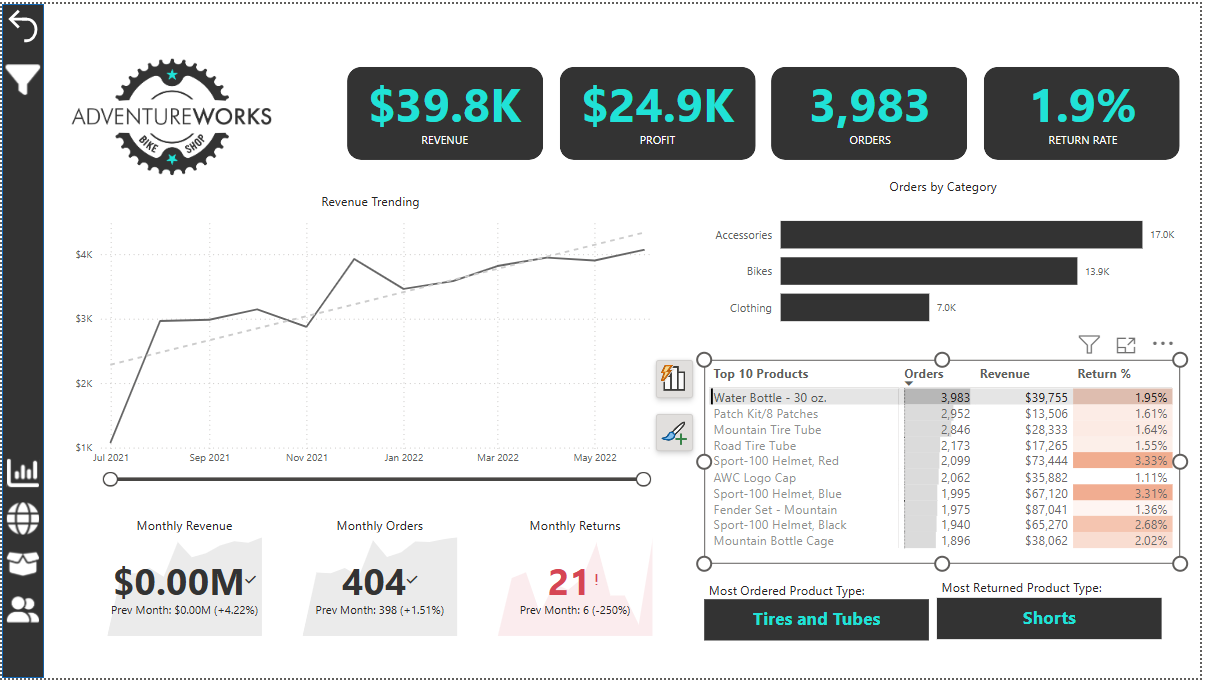

What the dashboard file says about the page in this screenshot:
{"tool":"powerbi","page":{"name":"Exec Dashboard","canvas":[1280,720],"ordinal":0},"visuals":[{"type":"shape","title":"Left Nav Background","box":[0,0,45,719.9],"z":0},{"type":"card","fields":{"Values":["Measure Table.Total Revenue"]},"box":[350,58.6,245.3,107.4],"z":0,"group":"g2"},{"type":"group","id":"g1","title":"KPI Backgrounds","box":[368.9,67.6,889.2,99.4],"z":0,"group":"g3"},{"type":"shape","box":[1048.6,67.6,209.5,99.4],"z":0,"group":"g1"},{"type":"actionButton","box":[1.3,527.9,62.3,42.4],"z":0,"group":"g4"},{"type":"image","title":"AW Logo","box":[45.1,35.8,271.8,169.7],"z":1000},{"type":"group","id":"g2","title":"KPI Values","box":[350,58.6,927.2,107.4],"z":1000,"group":"g3"},{"type":"card","fields":{"Values":["Measure Table.Return Rate"]},"box":[1031.4,58.6,245.7,107.1],"z":1000,"group":"g2"},{"type":"shape","box":[822.1,67.6,209.5,99.4],"z":1000,"group":"g1"},{"type":"actionButton","box":[1.3,576.5,62.3,42.4],"z":1000,"group":"g4"},{"type":"group","id":"g3","title":"KPIs","box":[350,58.6,927.2,108.4],"z":2000},{"type":"card","fields":{"Values":["Measure Table.Total Profit"]},"box":[576.8,58.6,245.7,107.1],"z":2000,"group":"g2"},{"type":"shape","box":[595.5,67.6,209.5,99.4],"z":2000,"group":"g1"},{"type":"actionButton","box":[1.3,625.1,62.3,42.4],"z":2000,"group":"g4"},{"type":"card","fields":{"Values":["Measure Table.Total Orders"]},"box":[804.1,58.6,245.7,107.1],"z":3000,"group":"g2"},{"type":"shape","box":[368.9,67.6,209.5,99.4],"z":3000,"group":"g1"},{"type":"lineChart","title":"Revenue Trending","fields":{"Y":["Measure Table.Total Revenue"],"Category":["Calendar Lookup.Year","Calendar Lookup.Start of Quarter.Variation.Date Hierarchy.Quarter","Calendar Lookup.Start of Quarter.Variation.Date Hierarchy.Month","Calendar Lookup.Date Hierarchy.Start of Month"]},"box":[72.9,201.4,641.4,317.1],"z":3000},{"type":"actionButton","box":[1.3,479.3,62.3,42.4],"z":3000,"group":"g4"},{"type":"kpi","title":"Monthly Revenue","fields":{"Indicator":["Measure Table.Total Revenue"],"TrendLine":["Calendar Lookup.Start of Month"],"Goal":["Measure Table.Previous Month Revenue"]},"box":[107.1,547.1,175.7,132.9],"z":4000},{"type":"kpi","title":"Monthly Orders","fields":{"TrendLine":["Calendar Lookup.Start of Month"],"Indicator":["Measure Table.Total Orders"],"Goal":["Measure Table.Previous Month Orders"]},"box":[315.7,547.1,175.7,132.9],"z":5000},{"type":"kpi","title":"Monthly Returns","fields":{"TrendLine":["Calendar Lookup.Start of Month"],"Indicator":["Measure Table.Total Returns"],"Goal":["Measure Table.Previous Month Returns"]},"box":[524.3,547.1,175.7,132.9],"z":6000},{"type":"clusteredBarChart","title":"Orders by Category","fields":{"Category":["Product Categories Lookup.CategoryName"],"Y":["Measure Table.Total Orders"]},"box":[751.7,185.6,507.7,175],"z":7000},{"type":"pivotTable","fields":{"Rows":["Product Lookup.ProductName"],"Values":["Measure Table.Total Orders","Measure Table.Total Revenue","Measure Table.Return Rate"]},"box":[750.3,380.5,507.7,216.1],"z":8000},{"type":"card","fields":{"Values":["Min(Product Subcategories Lookup.SubcategoryName)"]},"box":[750.3,636.3,240,43.7],"z":9000},{"type":"textbox","box":[750.3,611.1,222.7,50.4],"z":10000},{"type":"card","fields":{"Values":["Min(Product Subcategories Lookup.SubcategoryName)"]},"box":[998.2,634.4,240,43.7],"z":11000},{"type":"textbox","box":[998.3,608.5,222.7,50.4],"z":12000},{"type":"actionButton","box":[0,0,45.7,47.1],"z":13000},{"type":"group","id":"g4","title":"Navigation Buttons","box":[1.3,479.3,62.3,188.2],"z":14000},{"type":"actionButton","box":[0,58.3,45.1,45.1],"z":15000}]}

Visuals, with their boxes on the page's 1280x720 design canvas (x1, y1, x2, y2). These are canvas units, not pixel positions in the 1206x683 screenshot, which may show the page scaled, cropped or inside an application window:
"Left Nav Background" shape: bbox=(0, 0, 45, 720)
card - Measure Table.Total Revenue: bbox=(350, 59, 595, 166)
"KPI Backgrounds" group: bbox=(369, 68, 1258, 167)
shape: bbox=(1049, 68, 1258, 167)
actionButton: bbox=(1, 528, 64, 570)
"AW Logo" image: bbox=(45, 36, 317, 206)
"KPI Values" group: bbox=(350, 59, 1277, 166)
card - Measure Table.Return Rate: bbox=(1031, 59, 1277, 166)
shape: bbox=(822, 68, 1032, 167)
actionButton: bbox=(1, 576, 64, 619)
"KPIs" group: bbox=(350, 59, 1277, 167)
card - Measure Table.Total Profit: bbox=(577, 59, 822, 166)
shape: bbox=(596, 68, 805, 167)
actionButton: bbox=(1, 625, 64, 668)
card - Measure Table.Total Orders: bbox=(804, 59, 1050, 166)
shape: bbox=(369, 68, 578, 167)
"Revenue Trending" lineChart: bbox=(73, 201, 714, 518)
actionButton: bbox=(1, 479, 64, 522)
"Monthly Revenue" kpi: bbox=(107, 547, 283, 680)
"Monthly Orders" kpi: bbox=(316, 547, 491, 680)
"Monthly Returns" kpi: bbox=(524, 547, 700, 680)
"Orders by Category" clusteredBarChart: bbox=(752, 186, 1259, 361)
pivotTable - Product Lookup.ProductName x Measure Table.Total Orders: bbox=(750, 380, 1258, 597)
card - Min(Product Subcategories Lookup.SubcategoryName): bbox=(750, 636, 990, 680)
textbox: bbox=(750, 611, 973, 662)
card - Min(Product Subcategories Lookup.SubcategoryName): bbox=(998, 634, 1238, 678)
textbox: bbox=(998, 608, 1221, 659)
actionButton: bbox=(0, 0, 46, 47)
"Navigation Buttons" group: bbox=(1, 479, 64, 668)
actionButton: bbox=(0, 58, 45, 103)
